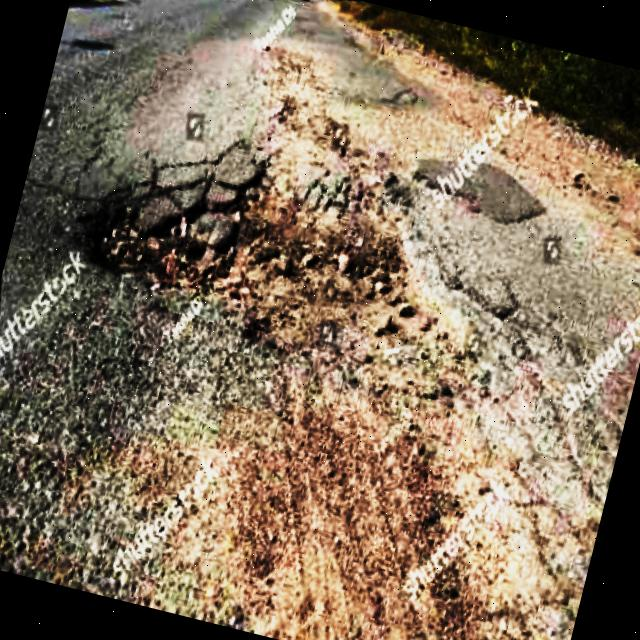pothole: (60, 116, 498, 409)
